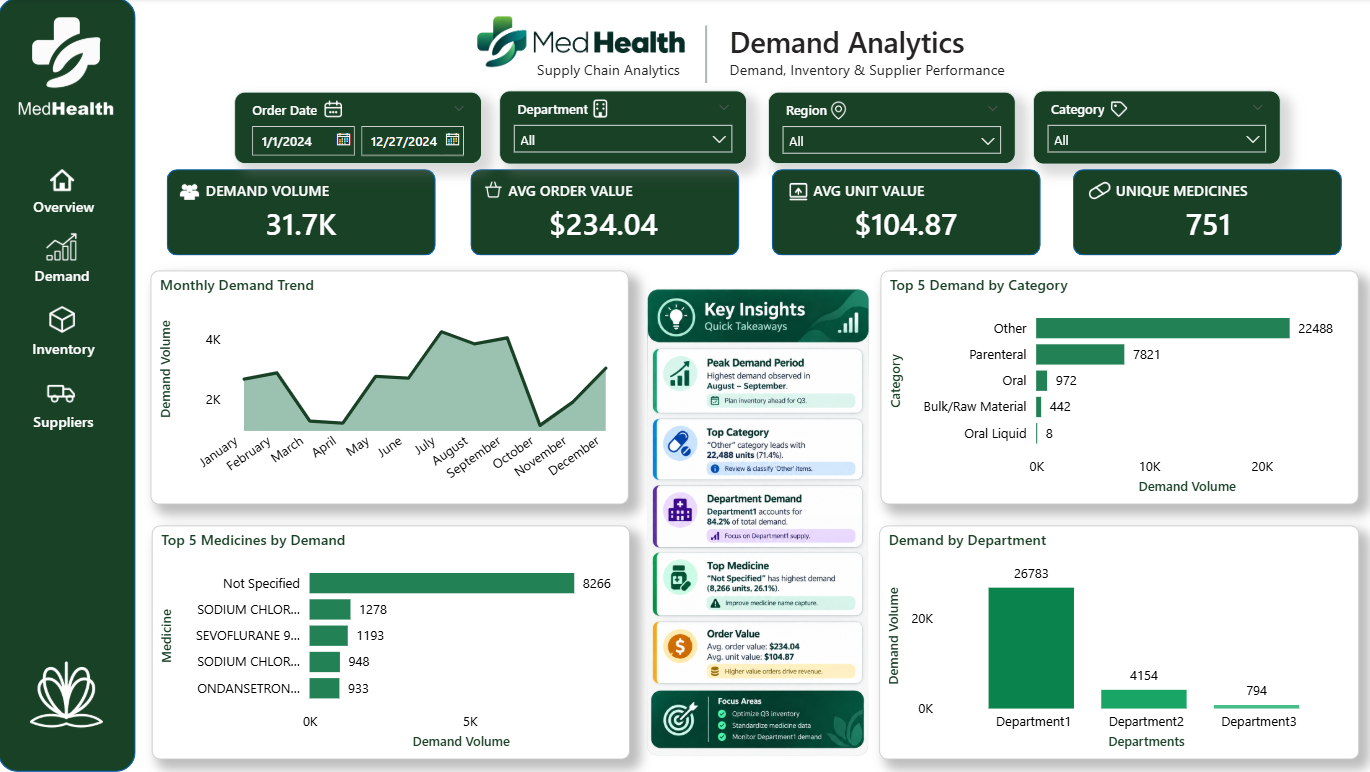

The dashboard page shown, as its layout file describes it:
{"tool":"powerbi","page":{"name":"Demand Analytics","canvas":[1280,720],"ordinal":1},"visuals":[{"type":"shape","box":[0,0,127.9,719.8],"z":0},{"type":"image","box":[424.4,0,234.9,80.2],"z":0,"group":"g1"},{"type":"image","box":[34.5,143.5,50,52.3],"z":0,"group":"g3"},{"type":"image","box":[23.3,0,81.4,101.2],"z":1000},{"type":"shape","box":[624.4,25.6,68.6,53.5],"z":1000,"group":"g1"},{"type":"slicer","fields":{"Values":["demand_sales.Order_Date"]},"box":[219.8,87.3,230.2,67.4],"z":1000,"group":"g2"},{"type":"textbox","box":[27.3,180.9,69.9,31.9],"z":1000,"group":"g3"},{"type":"textbox","box":[675.6,17.4,268.6,46.5],"z":2000,"group":"g1"},{"type":"shape","box":[157,159.3,250,80.2],"z":2000},{"type":"image","box":[34.5,206.3,50,52.3],"z":2000,"group":"g3"},{"type":"textbox","box":[675.6,52.3,290.7,30.2],"z":3000,"group":"g1"},{"type":"slicer","fields":{"Values":["demand_sales.Dept"]},"box":[466.3,86.1,230.2,68.6],"z":3000,"group":"g2"},{"type":"shape","box":[439.5,159.3,250,80.2],"z":3000},{"type":"textbox","box":[28.6,244.7,66.2,31.9],"z":3000,"group":"g3"},{"type":"textbox","box":[496.5,52.3,153.5,30.2],"z":4000,"group":"g1"},{"type":"image","box":[34.5,272.6,50,52.3],"z":4000,"group":"g3"},{"type":"image","box":[0,600,127.9,119.8],"z":4000},{"type":"image","box":[7,80.2,134.9,47.7],"z":5000},{"type":"slicer","fields":{"Values":["demand_sales.Region"]},"box":[716.3,87.3,230.2,67.4],"z":5000,"group":"g2"},{"type":"textbox","box":[23,312.1,77.3,28.2],"z":5000,"group":"g3"},{"type":"group","id":"g1","title":"Group 1","box":[424.4,0,541.9,82.6],"z":6000},{"type":"slicer","fields":{"Values":["demand_sales.Category"]},"box":[962.8,86.1,230.2,68.6],"z":6000,"group":"g2"},{"type":"image","box":[34.5,338.8,50,52.3],"z":6000,"group":"g3"},{"type":"group","id":"g2","title":"Group 3","box":[219.8,82.6,973.3,72.1],"z":7000},{"type":"textbox","box":[27.1,380.8,72.4,30.7],"z":7000,"group":"g3"},{"type":"image","box":[291.9,83.8,40.7,37.2],"z":8000,"group":"g2"},{"type":"image","box":[157,161.6,43,36],"z":8000},{"type":"shape","box":[719.8,159.3,250,80.2],"z":9000},{"type":"image","box":[539.6,82.6,41.9,38.4],"z":10000,"group":"g2"},{"type":"shape","box":[1000,159.3,250,80.2],"z":10000},{"type":"card","title":"TOTAL SALES","fields":{"Values":["demand_sales.Demand Volume"]},"box":[157,172.1,250,76.7],"z":11000},{"type":"textbox","box":[188.4,165.1,133.7,27.9],"z":12000},{"type":"image","box":[766.3,87.3,31.4,33.7],"z":13000,"group":"g2"},{"type":"card","title":"TOTAL SALES","fields":{"Values":["demand_sales.Avg Order Value"]},"box":[438.4,172.1,250,76.7],"z":13000},{"type":"textbox","box":[469.6,164.6,136,27.9],"z":14000},{"type":"image","box":[439.5,159.3,43,36],"z":15000},{"type":"image","box":[1021,84.9,43,36],"z":16000,"group":"g2"},{"type":"card","title":"TOTAL SALES","fields":{"Values":["demand_sales.Avg Unit Value"]},"box":[719.8,172.1,250,76.7],"z":16000},{"type":"textbox","box":[753.8,165.4,119.2,28.2],"z":17000},{"type":"image","box":[719.8,158.1,50,43],"z":18000},{"type":"card","title":"TOTAL SALES","fields":{"Values":["demand_sales.Active Medicines"]},"box":[1001.2,172.1,250,76.7],"z":19000},{"type":"textbox","box":[1034.9,165.1,138.4,27.9],"z":20000},{"type":"image","box":[1000,155.8,50,43],"z":21000},{"type":"lineChart","title":"Monthly Demand Trend","fields":{"Category":["demand_sales.Order_Date.Variation.Date Hierarchy.Month"],"Y":["demand_sales.Demand Volume"]},"box":[141.9,253.5,445,217.4],"z":22000},{"type":"clusteredBarChart","title":"Top 5 Demand by Category","fields":{"Y":["demand_sales.Demand Volume"],"Category":["demand_sales.Category"]},"box":[821.2,253.8,445,217.5],"z":23000},{"type":"clusteredColumnChart","title":"Demand by Department","fields":{"Y":["demand_sales.Demand Volume"],"Category":["demand_sales.Dept"]},"box":[820,491.2,446.2,217.5],"z":24000},{"type":"clusteredBarChart","title":"Top 5 Medicines by Demand","fields":{"Category":["demand_sales.DrugName_Display"],"Y":["demand_sales.Demand Volume"]},"box":[142.5,491.2,445,217.5],"z":25000},{"type":"image","box":[552.2,264.4,310,452.2],"z":26000},{"type":"group","id":"g3","title":"Group 2","box":[23,143.5,77.3,268],"z":27000},{"type":"actionButton","box":[9.4,144.7,100,68.2],"z":28000},{"type":"actionButton","box":[9.4,208.2,100,64.7],"z":29000},{"type":"actionButton","box":[12.9,276.5,100,63.5],"z":30000},{"type":"actionButton","box":[10.6,350.6,100,61.2],"z":31000}]}

Visuals, with their boxes on the page's 1280x720 design canvas (x1, y1, x2, y2). These are canvas units, not pixel positions in the 1370x772 screenshot, which may show the page scaled, cropped or inside an application window:
shape: (0, 0, 128, 720)
image: (424, 0, 659, 80)
image: (34, 144, 84, 196)
image: (23, 0, 105, 101)
shape: (624, 26, 693, 79)
slicer - demand_sales.Order_Date: (220, 87, 450, 155)
textbox: (27, 181, 97, 213)
textbox: (676, 17, 944, 64)
shape: (157, 159, 407, 240)
image: (34, 206, 84, 259)
textbox: (676, 52, 966, 82)
slicer - demand_sales.Dept: (466, 86, 696, 155)
shape: (440, 159, 690, 240)
textbox: (29, 245, 95, 277)
textbox: (496, 52, 650, 82)
image: (34, 273, 84, 325)
image: (0, 600, 128, 720)
image: (7, 80, 142, 128)
slicer - demand_sales.Region: (716, 87, 946, 155)
textbox: (23, 312, 100, 340)
"Group 1" group: (424, 0, 966, 83)
slicer - demand_sales.Category: (963, 86, 1193, 155)
image: (34, 339, 84, 391)
"Group 3" group: (220, 83, 1193, 155)
textbox: (27, 381, 100, 412)
image: (292, 84, 333, 121)
image: (157, 162, 200, 198)
shape: (720, 159, 970, 240)
image: (540, 83, 582, 121)
shape: (1000, 159, 1250, 240)
"TOTAL SALES" card: (157, 172, 407, 249)
textbox: (188, 165, 322, 193)
image: (766, 87, 798, 121)
"TOTAL SALES" card: (438, 172, 688, 249)
textbox: (470, 165, 606, 192)
image: (440, 159, 482, 195)
image: (1021, 85, 1064, 121)
"TOTAL SALES" card: (720, 172, 970, 249)
textbox: (754, 165, 873, 194)
image: (720, 158, 770, 201)
"TOTAL SALES" card: (1001, 172, 1251, 249)
textbox: (1035, 165, 1173, 193)
image: (1000, 156, 1050, 199)
"Monthly Demand Trend" lineChart: (142, 254, 587, 471)
"Top 5 Demand by Category" clusteredBarChart: (821, 254, 1266, 471)
"Demand by Department" clusteredColumnChart: (820, 491, 1266, 709)
"Top 5 Medicines by Demand" clusteredBarChart: (142, 491, 588, 709)
image: (552, 264, 862, 717)
"Group 2" group: (23, 144, 100, 412)
actionButton: (9, 145, 109, 213)
actionButton: (9, 208, 109, 273)
actionButton: (13, 276, 113, 340)
actionButton: (11, 351, 111, 412)
